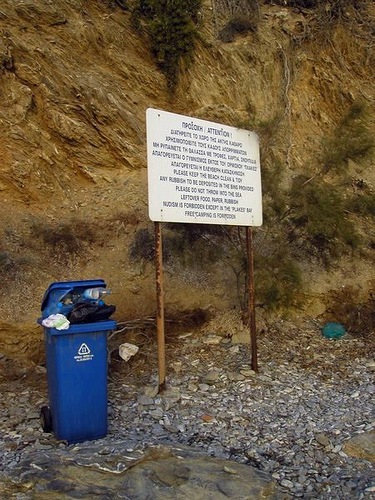litter: (38, 280, 115, 331)
